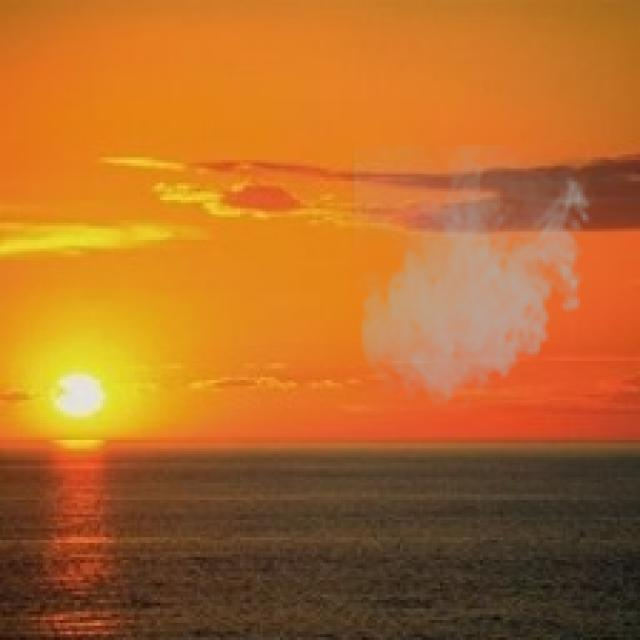smoke: (352, 146, 597, 414)
